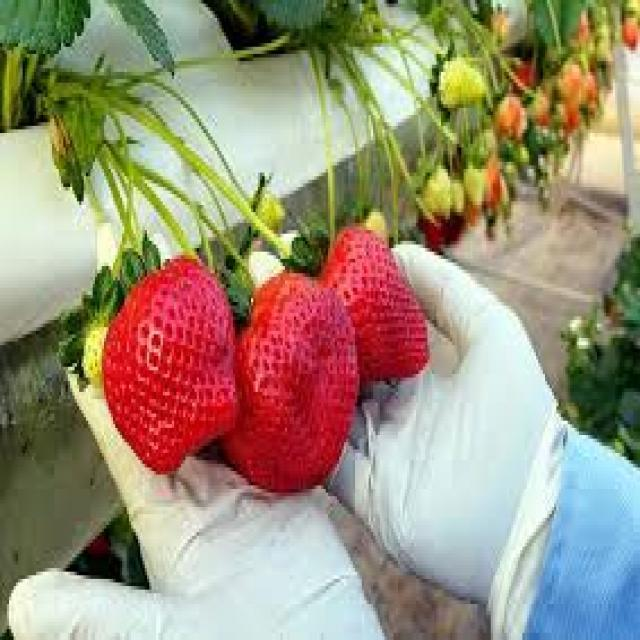Fruta sana: (239, 254, 352, 498), (103, 270, 239, 470), (326, 208, 432, 386)
